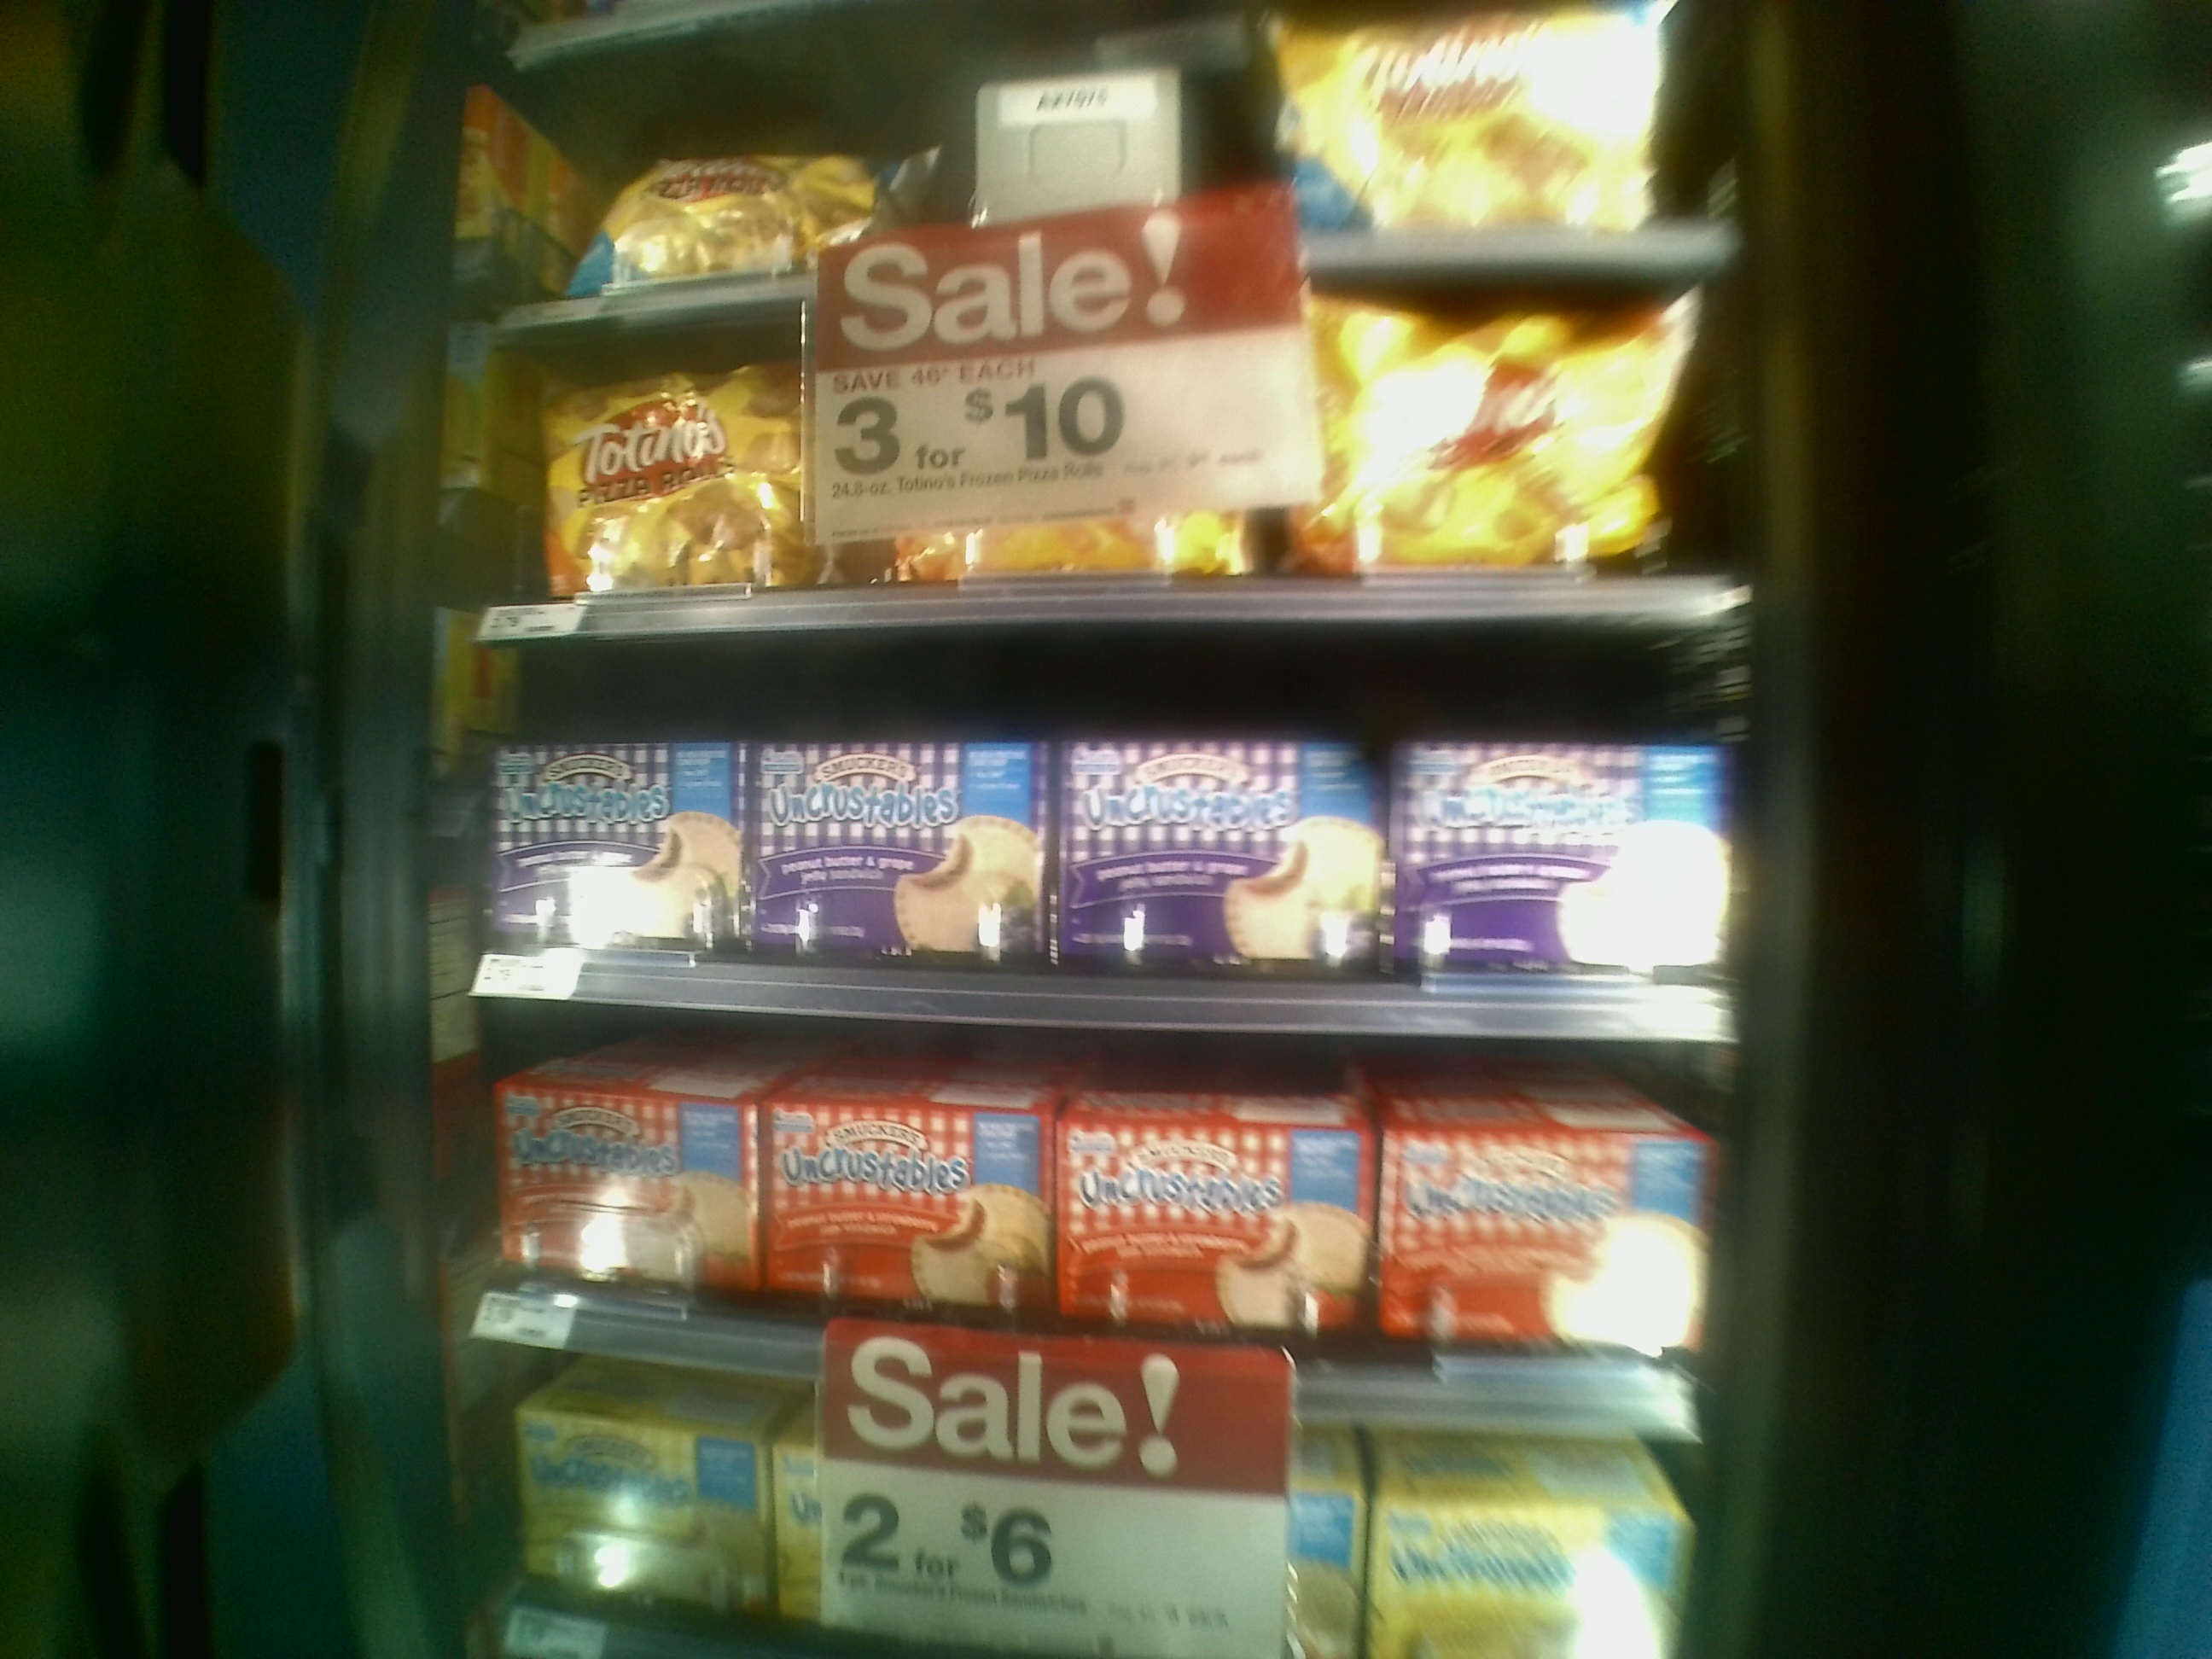shelf: (430, 615, 1726, 1053), (397, 1009, 1705, 1425), (460, 324, 1724, 610)
